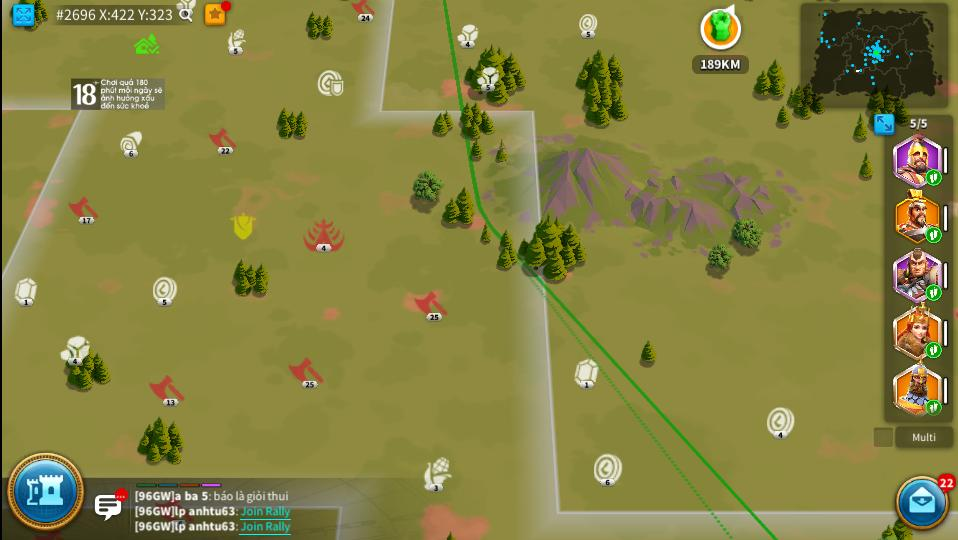gem-z-out: (575, 359, 600, 392), (15, 278, 37, 307)
march_marching: (925, 228, 942, 242), (926, 170, 940, 185), (927, 400, 941, 415), (926, 285, 940, 299), (928, 343, 940, 357)
